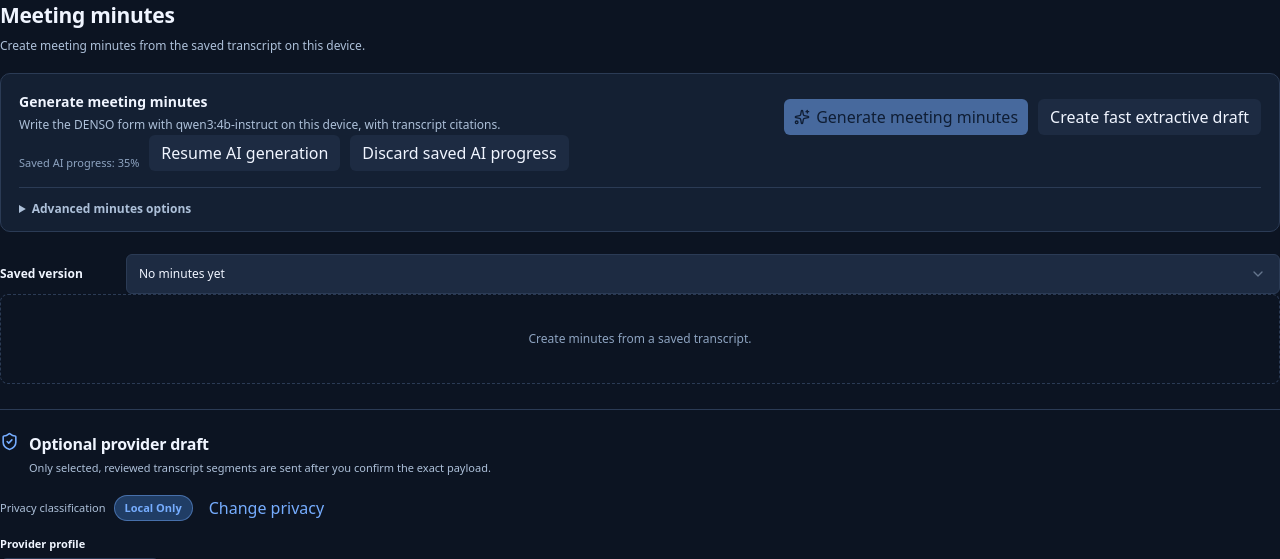
Test case: resumes saved AI progress and lets the user stop the running request
Step 1. Click the button "Resume AI generation" → (245,153), box [149,135,340,171]
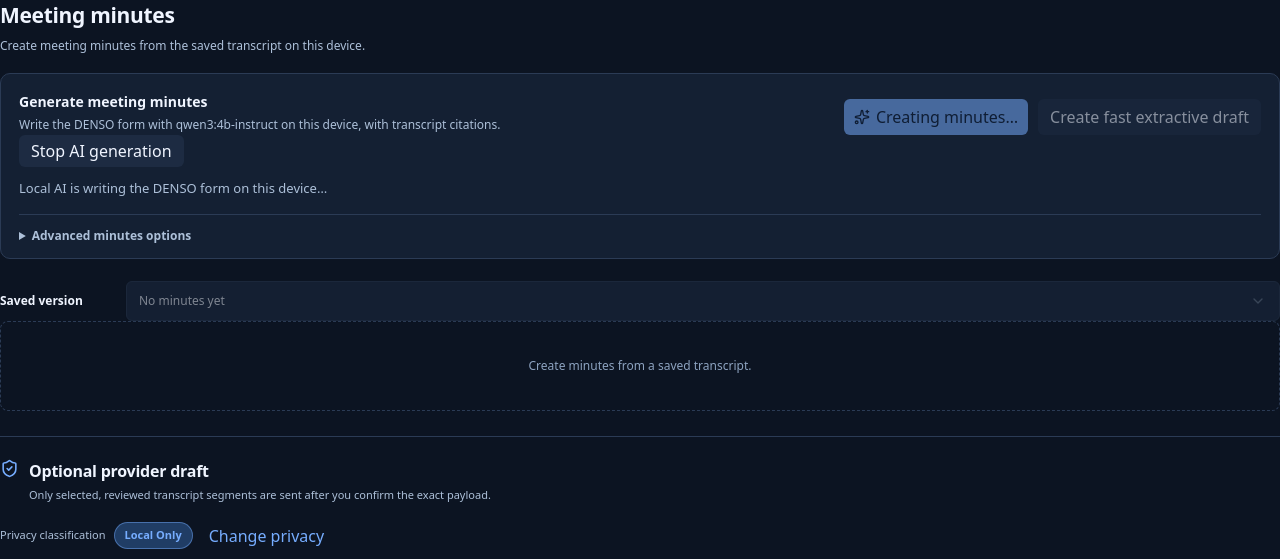
Step 2. Click the button "Stop AI generation" → (101,151), box [19,135,184,167]
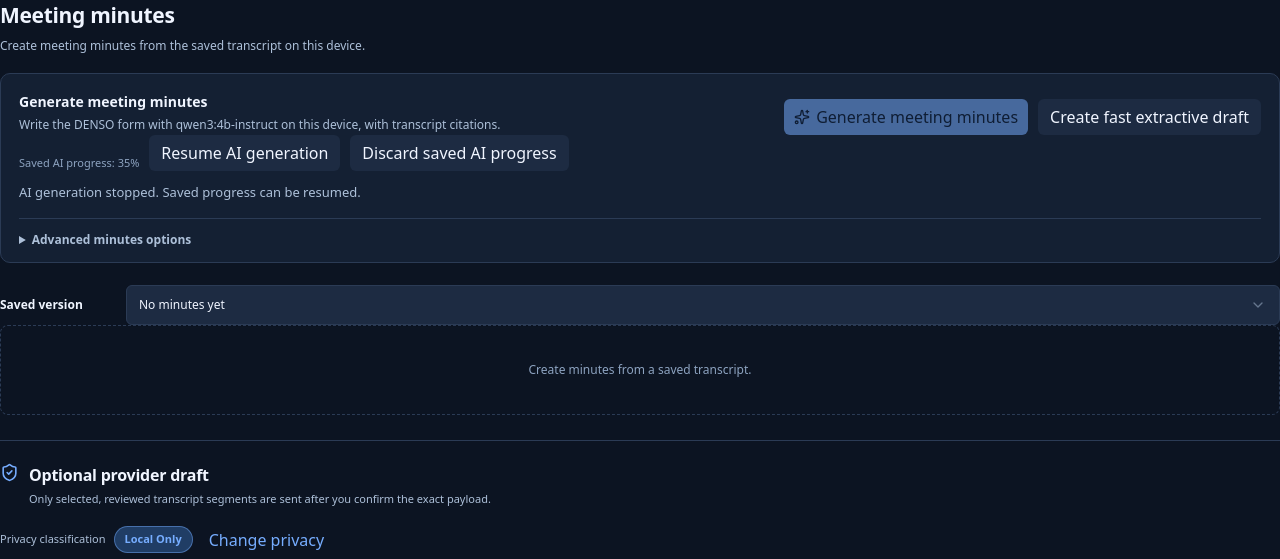
Check: the text "AI generation stopped. Saved progress can be resumed." is shown, box [19,183,361,201]
